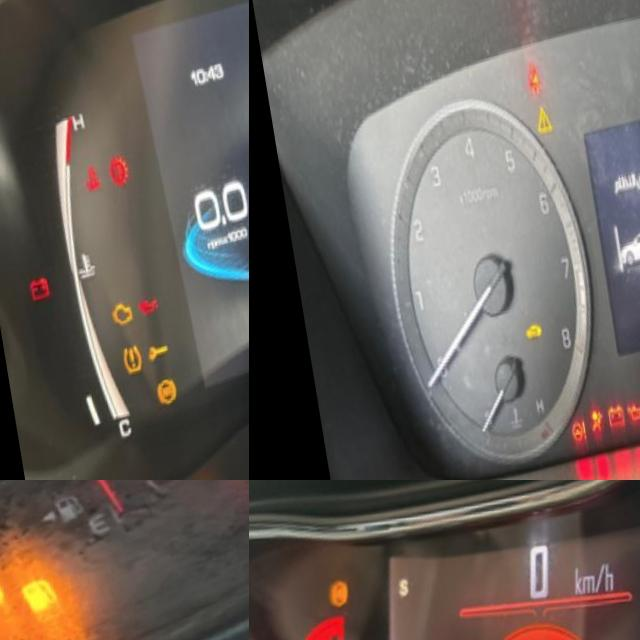Electronic Power Steering: (547, 422, 572, 466)
High Engine Coolant Temperature: (73, 166, 96, 202)
Seat Belt: (518, 71, 537, 114)
